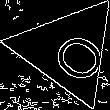O_NW: (32, 18, 103, 83)
